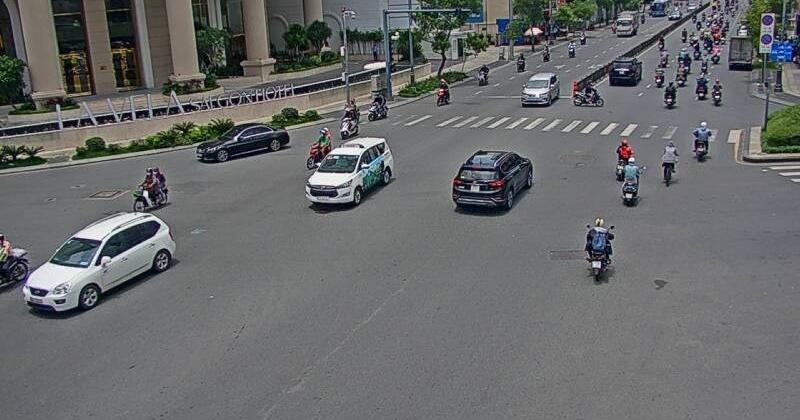xe dap: (659, 140, 678, 188)
xe hoi: (24, 207, 181, 322), (304, 135, 396, 209), (450, 148, 529, 215), (199, 124, 291, 164)
xe may: (583, 216, 615, 284), (134, 168, 168, 207), (620, 156, 645, 207), (306, 126, 332, 169), (690, 119, 713, 162), (615, 139, 632, 181), (339, 105, 359, 138)
